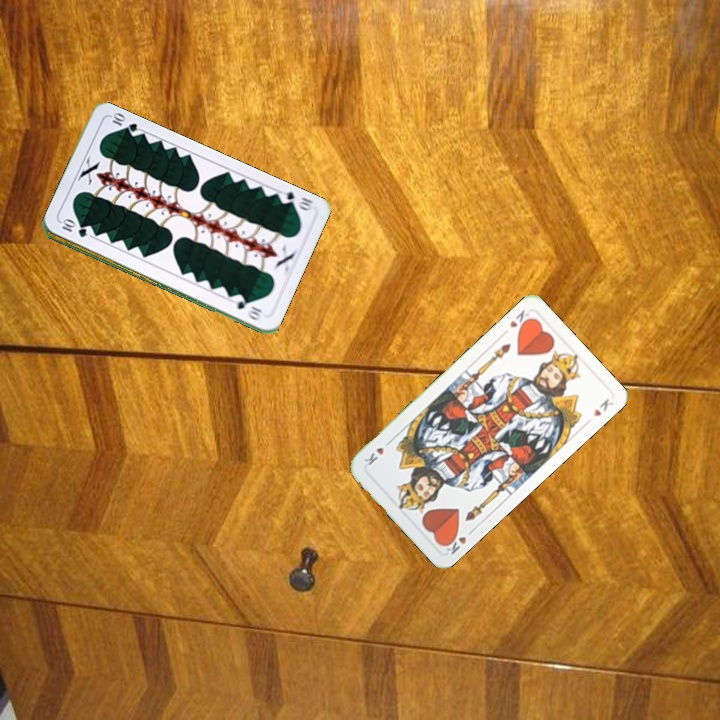G10: (275, 187, 315, 213), (57, 217, 90, 240)
HK: (440, 525, 477, 557), (505, 306, 534, 333)
